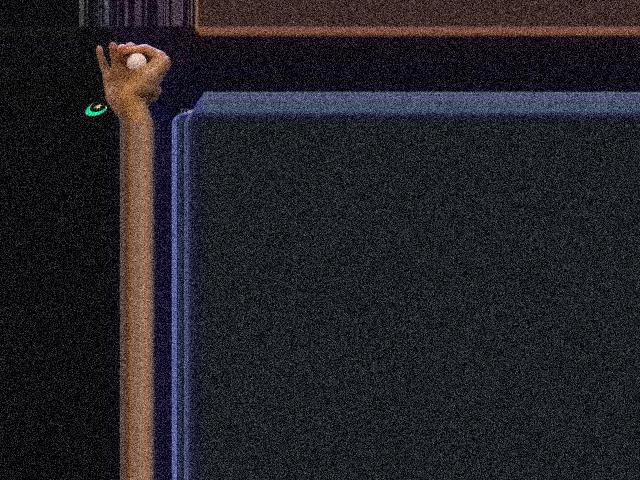egg: (126, 52, 147, 68)
